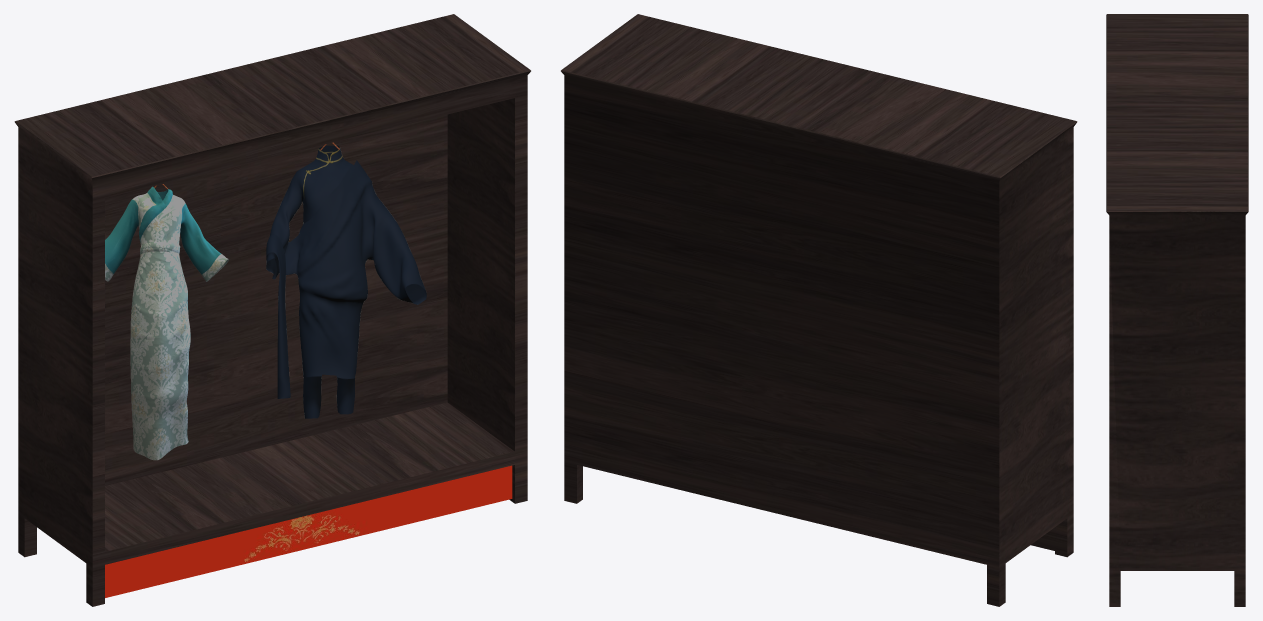
File: boxclothes.obj
3 views of the same model, side by side, from view 1: azimuth 30°, elevation 25°; view 2: azimuth 150°, elevation 25°; view 3: azimuth 270°, elevation 25° (orthographic). The views are drawn at different scales.
Visible parts, largest first — view 1: wardrobe, Plane008, Plane006; view 2: wardrobe; view 3: wardrobe.
Boxes of the visible parts, x1,y1,x2,y2 form: wardrobe: (14,14,530,606); Plane008: (266,145,426,418); Plane006: (105,186,228,460); wardrobe: (561,14,1077,606); wardrobe: (1106,14,1248,606).
Bounding box in the file's own units: 192 × 180 × 58.38.
